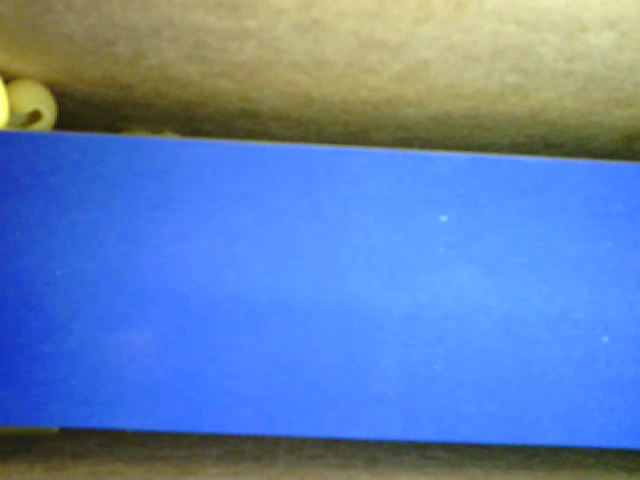shell: (1, 73, 59, 133)
